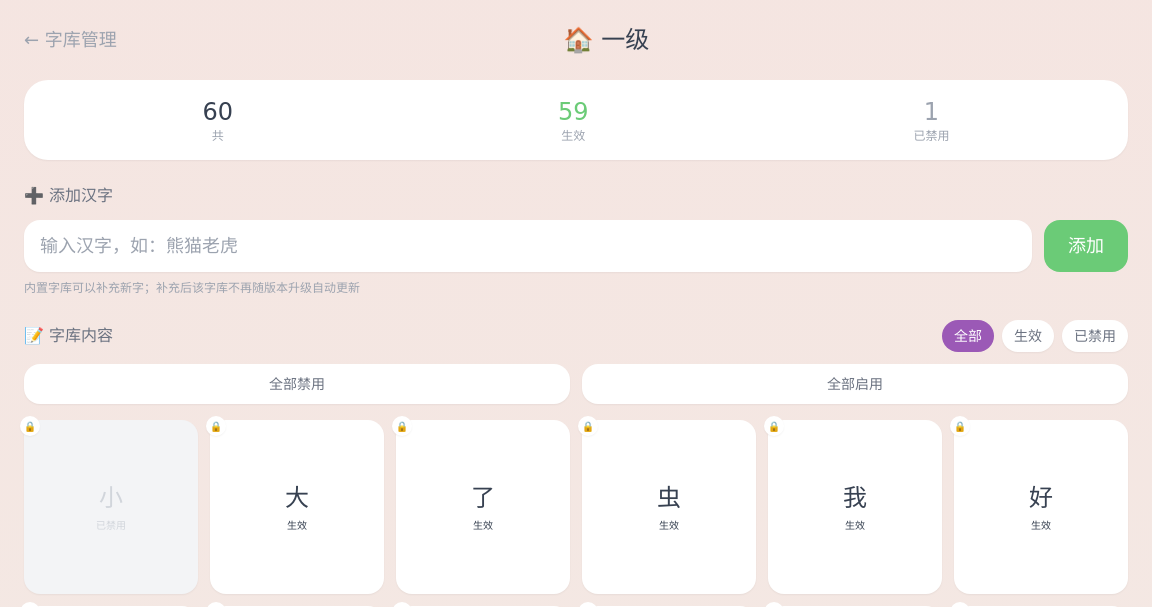
字库内容维护页 —— 内置字库 › 筛选「已禁用」只显示被禁用的字
Check: the heading "➕ 添加汉字" is shown, box [24, 186, 113, 205]
筛选按钮（字块上的「已禁用」是状态文案，取 role 避免歧义）
Step 1. Click the button "已禁用" → x=1095, y=336, box [1062, 320, 1128, 352]
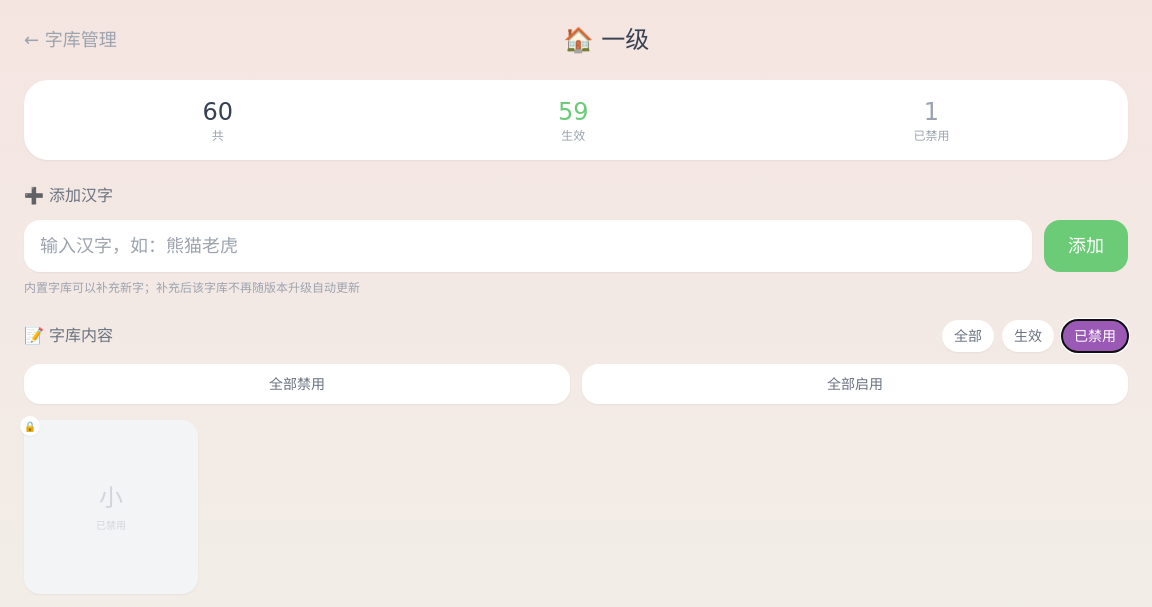
Check: the button with aria-label "启用小" is shown, box [24, 420, 198, 594]
Check: the button labelled "禁用大" is gone
